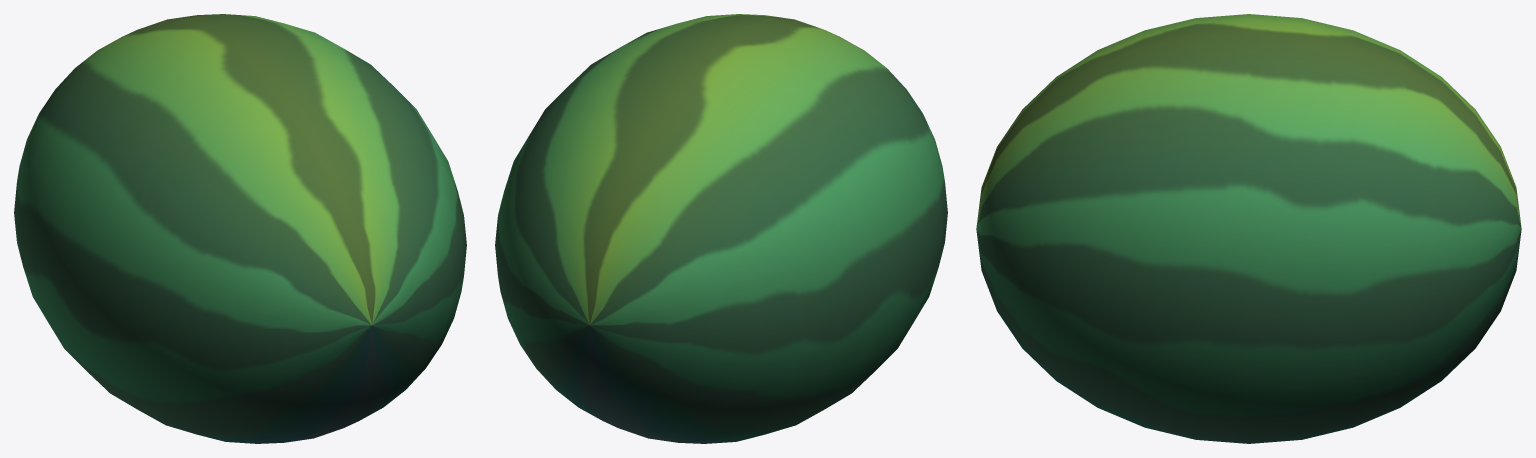
The model's file is Watermelon.fbx.
3 renders of one model, left to right at view 1: azimuth 30°, elevation 25°; view 2: azimuth 150°, elevation 25°; view 3: azimuth 270°, elevation 25°, orthographic. The views are drawn at different scales.
Parts seen in each view (by area): view 1: Watermelon; view 2: Watermelon; view 3: Watermelon.
Boxes of the visible parts, left/top/right/bottom form: Watermelon: left=14, top=14, right=466, bottom=443; Watermelon: left=495, top=14, right=947, bottom=443; Watermelon: left=976, top=14, right=1521, bottom=443.
Size of the model in its own units: 127 by 123 by 157.
Materials: 1 (1 with a texture image).
